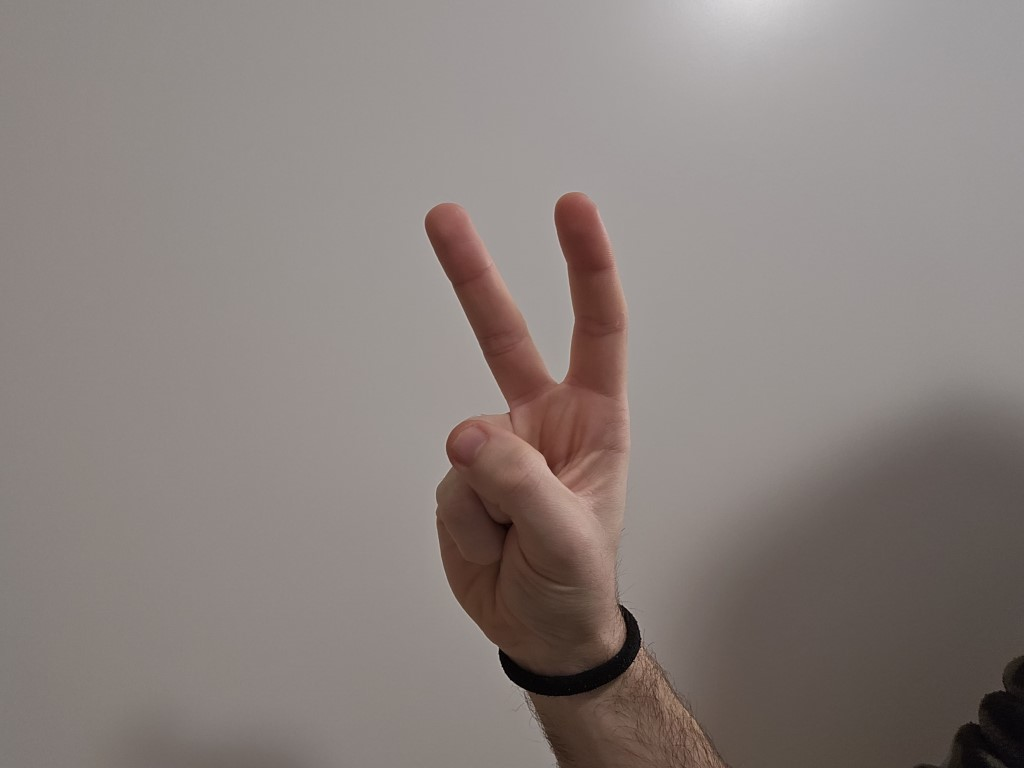v: (378, 184, 665, 659)
